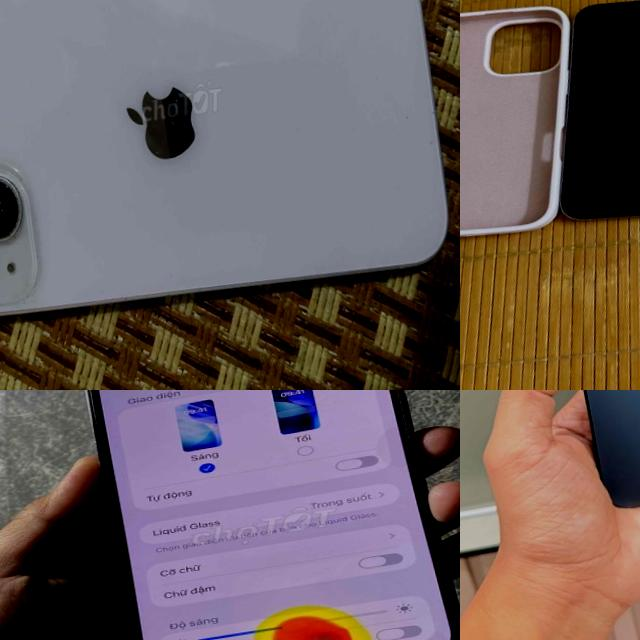scratch: (0, 164, 34, 261)
screen_defect: (238, 571, 375, 640)
